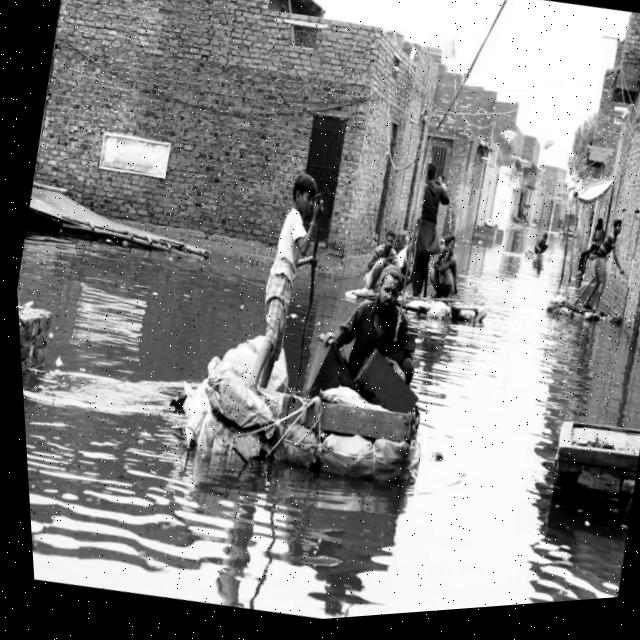civilian: (227, 160, 352, 416), (313, 252, 444, 428), (394, 156, 461, 299), (579, 206, 640, 321), (424, 223, 474, 307), (567, 210, 614, 294), (351, 224, 403, 299), (525, 221, 559, 266)
